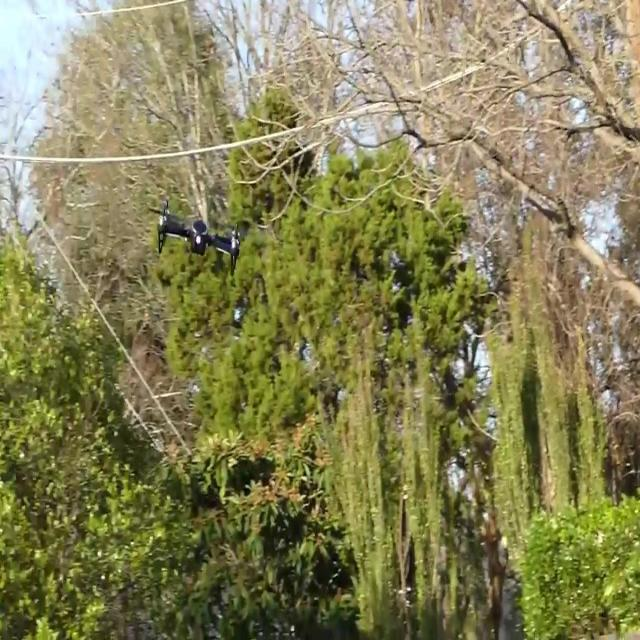UAV: (148, 197, 252, 271)
